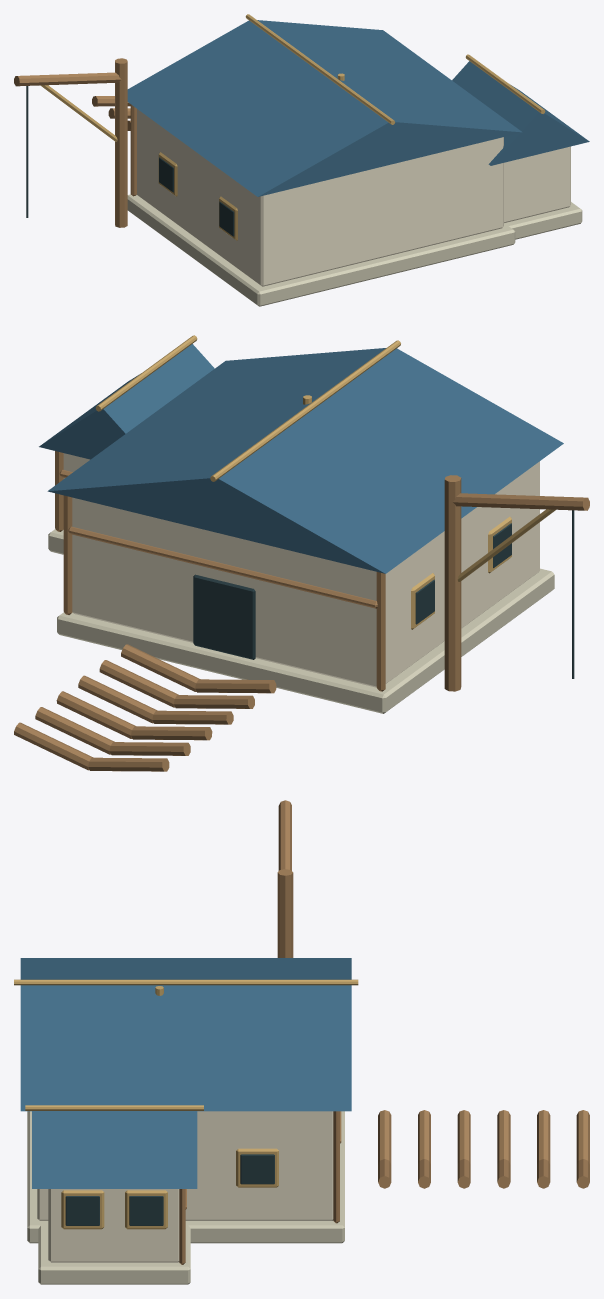
File: level_07.glb
3 views of the same model, one above another, from view 1: azimuth 30°, elevation 25°; view 2: azimuth 150°, elevation 25°; view 3: azimuth 270°, elevation 25° (orthographic). The views are drawn at different scales.
Visible parts, largest first — view 1: shipyard — level 07; view 2: shipyard — level 07; view 3: shipyard — level 07.
Part boxes in pixels (x1=…): shipyard — level 07: x1=14, y1=14, x2=589, y2=306; shipyard — level 07: x1=14, y1=335, x2=589, y2=771; shipyard — level 07: x1=14, y1=800, x2=589, y2=1284.
Size of the model in its own units: 9.65 by 3.66 by 8.7.
